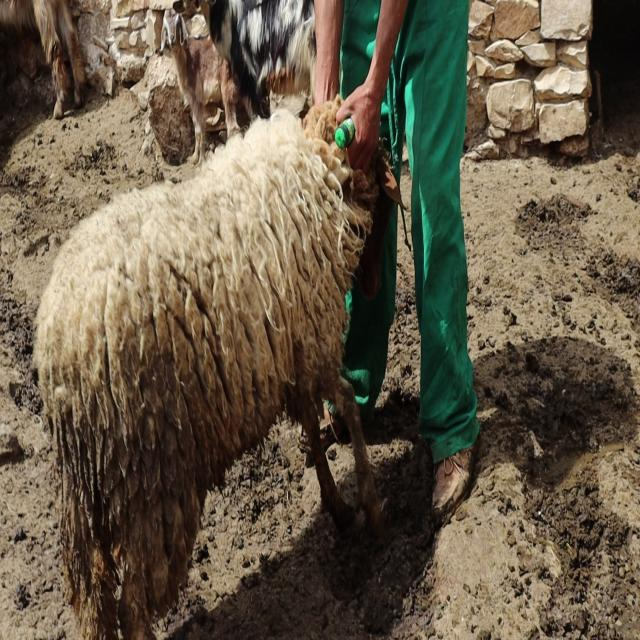Score_2: (34, 96, 402, 639)
